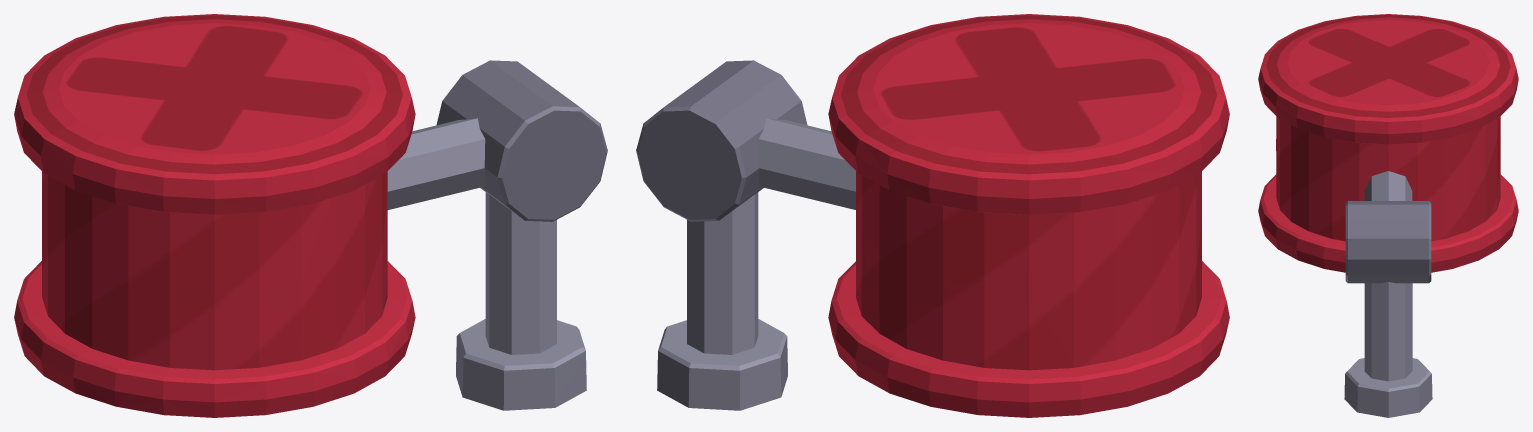
The model's file is Hurdle23.fbx.
The picture shows the model from 3 angles, left to right: view 1: azimuth 30°, elevation 25°; view 2: azimuth 150°, elevation 25°; view 3: azimuth 270°, elevation 25°; orthographic projection. The views are drawn at different scales.
Visible parts, largest first — view 1: Hurdle23; view 2: Hurdle23; view 3: Hurdle23.
Part boxes in pixels (box(x1,y1,x2,y2)): Hurdle23: box(14, 14, 607, 417); Hurdle23: box(636, 14, 1229, 417); Hurdle23: box(1258, 14, 1518, 417).
Bounding box in the file's own units: 2.44 × 1.6 × 1.58.
1 material, 1 textured.
